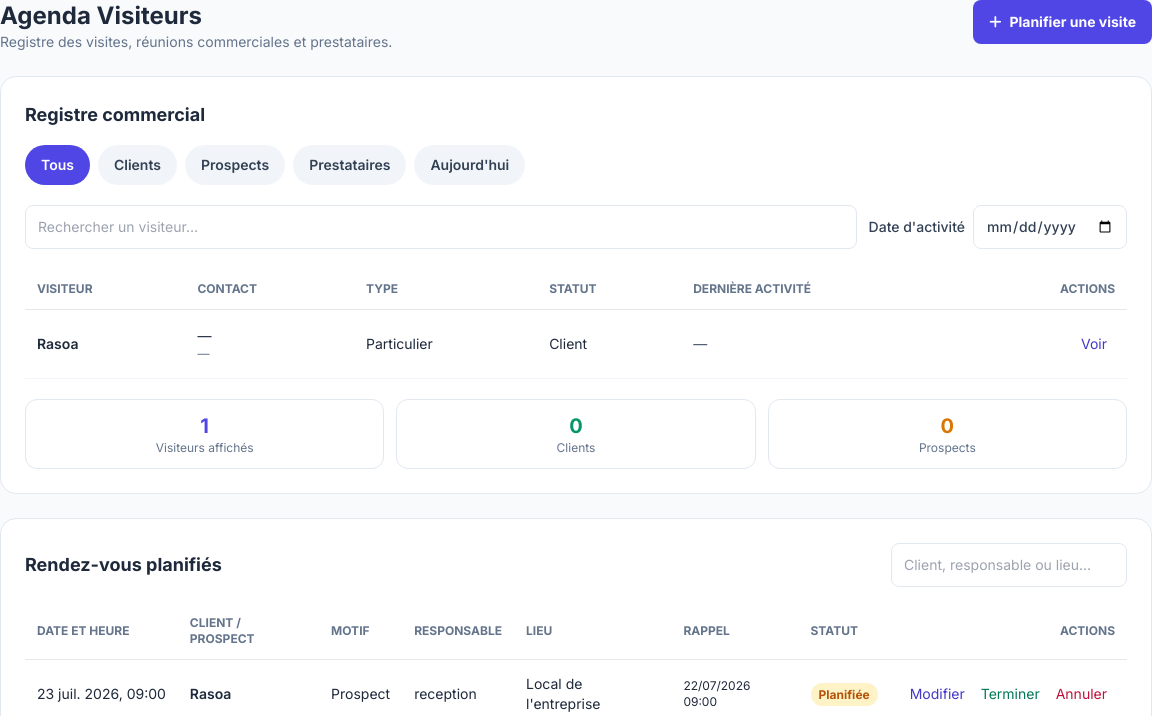
Test case: AgendaVisitorsPage › keeps the commercial filters usable when a customer has no last activity
Click the button "Aujourd'hui": (470, 165) [414,145,525,185]
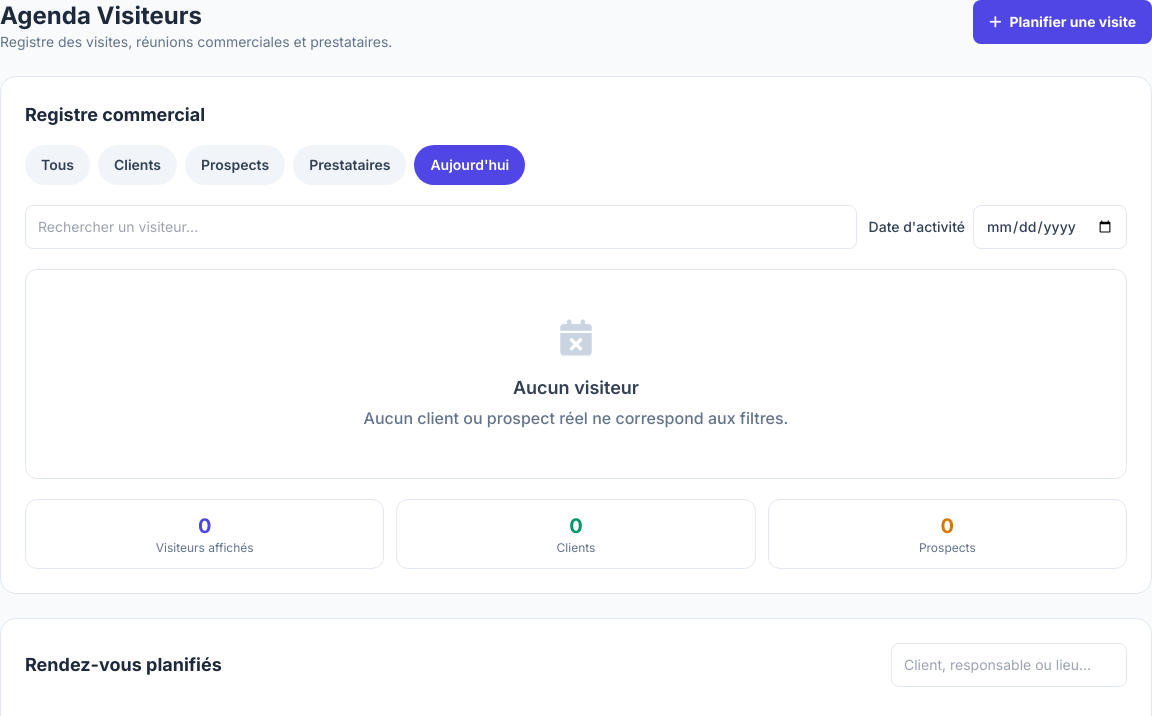
Now the heading "Aucun visiteur" is shown, box [513,377,639,398]
